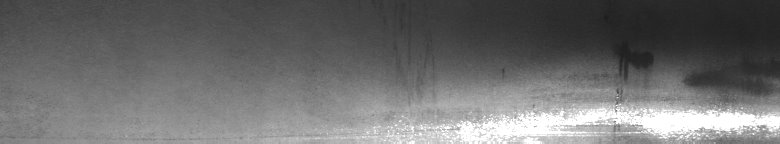ke: (367, 52, 776, 136)
